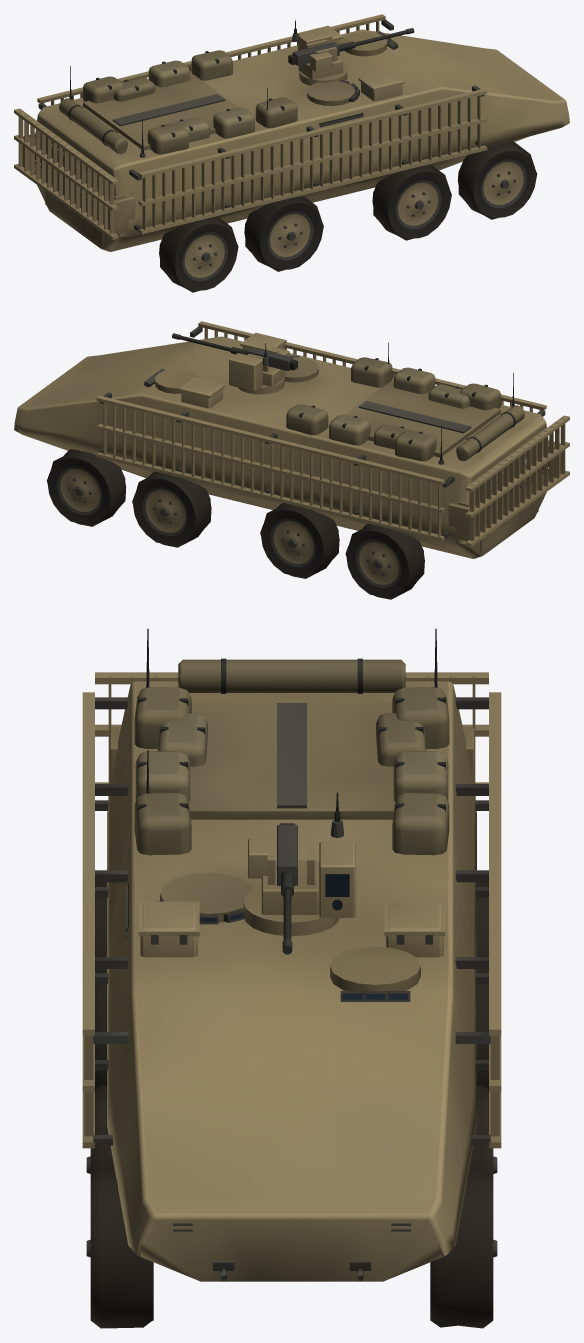
Rendered from stryker.glb.
The picture shows the model from 3 angles, top to bottom: view 1: azimuth 30°, elevation 25°; view 2: azimuth 150°, elevation 25°; view 3: azimuth 270°, elevation 25°; orthographic projection. The views are drawn at different scales.
Parts seen in each view (by area): view 1: hull, wheel_R0, wheel_R1, wheel_R2, wheel_R3, turret, gun; view 2: hull, wheel_L0, wheel_L1, wheel_L3, wheel_L2, turret, gun; view 3: hull, turret, wheel_R0, wheel_L0, gun, wheel_L1, wheel_R1, wheel_L2, wheel_R2.
Part boxes in pixels (<box>): hull: <box>14,14,569,251</box>; wheel_R0: <box>457,141,537,219</box>; wheel_R1: <box>372,165,451,240</box>; wheel_R2: <box>244,196,323,271</box>; wheel_R3: <box>159,217,238,292</box>; turret: <box>292,19,347,85</box>; gun: <box>288,28,414,71</box>; hull: <box>14,321,569,558</box>; wheel_L0: <box>47,449,126,526</box>; wheel_L1: <box>132,471,211,547</box>; wheel_L3: <box>345,523,424,599</box>; wheel_L2: <box>260,503,339,578</box>; turret: <box>229,343,285,394</box>; gun: <box>172,333,297,370</box>; hull: <box>82,628,501,1281</box>; turret: <box>243,792,355,936</box>; wheel_R0: <box>86,1168,153,1328</box>; wheel_L0: <box>430,1168,497,1328</box>; gun: <box>248,823,297,954</box>; wheel_L1: <box>469,1085,497,1175</box>; wheel_R1: <box>86,1085,114,1175</box>; wheel_L2: <box>477,969,488,1089</box>; wheel_R2: <box>95,969,106,1089</box>.
Size of the model in its own units: 7.28 by 2.8 by 2.76.
